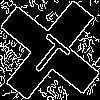T: (25, 25, 78, 80)
